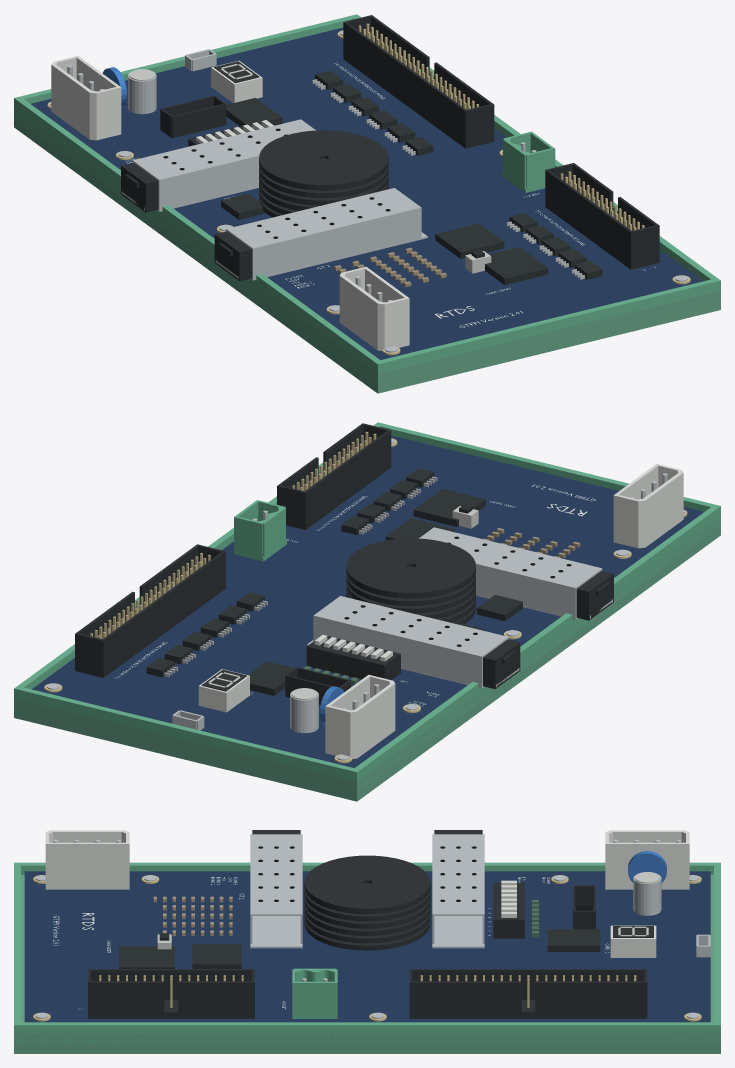
Rendered from asset.glb.
3 renders of one model, top to bottom at view 1: azimuth 30°, elevation 25°; view 2: azimuth 150°, elevation 25°; view 3: azimuth 270°, elevation 25°, orthographic. The views are drawn at different scales.
Parts seen in each view (by area): view 1: gtfpi-v2-2.01-capped.body, gtfpi-v2-2.01-capped.carrier, gtfpi-v2-2.01-capped.carrier_lip-0.054, gtfpi-v2-2.01-capped.heatsink_top, gtfpi-v2-2.01-capped.gt2.cage_side0.0072, gtfpi-v2-2.01-capped.hv.inner_wall, gtfpi-v2-2.01-capped.carrier_end-0.1, gtfpi-v2-2.01-capped.power1.shroud, gtfpi-v2-2.01-capped.power2.shroud, gtfpi-v2-2.01-capped.gt2.cage_edge0.00465, gtfpi-v2-2.01-capped.gt1.cage_edge0.00465, gtfpi-v2-2.01-capped.lv.inner_wall (+22 smaller); view 2: gtfpi-v2-2.01-capped.body, gtfpi-v2-2.01-capped.carrier, gtfpi-v2-2.01-capped.carrier_lip-0.054, gtfpi-v2-2.01-capped.heatsink_top, gtfpi-v2-2.01-capped.hv.inner_wall, gtfpi-v2-2.01-capped.carrier_end0.1, gtfpi-v2-2.01-capped.power2.shroud, gtfpi-v2-2.01-capped.power1.shroud, gtfpi-v2-2.01-capped.gt1.cage_side-0.0072, gtfpi-v2-2.01-capped.gt1.cage_edge0.00465, gtfpi-v2-2.01-capped.gt2.cage_edge0.00465, gtfpi-v2-2.01-capped.lv.inner_wall (+22 smaller); view 3: gtfpi-v2-2.01-capped.body, gtfpi-v2-2.01-capped.carrier_lip0.054, gtfpi-v2-2.01-capped.carrier, gtfpi-v2-2.01-capped.heatsink_top, gtfpi-v2-2.01-capped.power2.shroud, gtfpi-v2-2.01-capped.hv.outer_wall-1, gtfpi-v2-2.01-capped.hv.outer_wall1, gtfpi-v2-2.01-capped.gt2.cage_edge0.00465, gtfpi-v2-2.01-capped.gt1.cage_edge0.00465, gtfpi-v2-2.01-capped.power1.shroud, gtfpi-v2-2.01-capped.carrier_lip-0.054, gtfpi-v2-2.01-capped.hv.inner_wall (+26 smaller).
Part boxes in pixels (x1=…): gtfpi-v2-2.01-capped.body: x1=30, y1=27, x2=702, y2=359; gtfpi-v2-2.01-capped.carrier: x1=14, y1=109, x2=720, y2=393; gtfpi-v2-2.01-capped.carrier_lip-0.054: x1=14, y1=96, x2=383, y2=383; gtfpi-v2-2.01-capped.heatsink_top: x1=259, y1=130, x2=388, y2=190; gtfpi-v2-2.01-capped.gt2.cage_side0.0072: x1=252, y1=207, x2=421, y2=280; gtfpi-v2-2.01-capped.hv.inner_wall: x1=343, y1=21, x2=467, y2=148; gtfpi-v2-2.01-capped.carrier_end-0.1: x1=374, y1=278, x2=720, y2=382; gtfpi-v2-2.01-capped.power1.shroud: x1=51, y1=56, x2=121, y2=140; gtfpi-v2-2.01-capped.power2.shroud: x1=339, y1=266, x2=409, y2=350; gtfpi-v2-2.01-capped.gt2.cage_edge0.00465: x1=226, y1=188, x2=419, y2=249; gtfpi-v2-2.01-capped.gt1.cage_edge0.00465: x1=133, y1=120, x2=315, y2=180; gtfpi-v2-2.01-capped.lv.inner_wall: x1=545, y1=169, x2=632, y2=269; gtfpi-v2-2.01-capped.body: x1=32, y1=435, x2=704, y2=767; gtfpi-v2-2.01-capped.carrier: x1=14, y1=517, x2=720, y2=801; gtfpi-v2-2.01-capped.carrier_lip-0.054: x1=351, y1=504, x2=720, y2=791; gtfpi-v2-2.01-capped.heatsink_top: x1=346, y1=538, x2=475, y2=598; gtfpi-v2-2.01-capped.hv.inner_wall: x1=101, y1=551, x2=225, y2=677; gtfpi-v2-2.01-capped.carrier_end0.1: x1=14, y1=686, x2=360, y2=789; gtfpi-v2-2.01-capped.power2.shroud: x1=613, y1=464, x2=683, y2=548; gtfpi-v2-2.01-capped.power1.shroud: x1=325, y1=674, x2=395, y2=758; gtfpi-v2-2.01-capped.gt1.cage_side-0.0072: x1=313, y1=615, x2=482, y2=688; gtfpi-v2-2.01-capped.gt1.cage_edge0.00465: x1=315, y1=596, x2=508, y2=657; gtfpi-v2-2.01-capped.gt2.cage_edge0.00465: x1=419, y1=528, x2=601, y2=588; gtfpi-v2-2.01-capped.lv.inner_wall: x1=303, y1=429, x2=391, y2=529; gtfpi-v2-2.01-capped.body: x1=24, y1=871, x2=710, y2=1022; gtfpi-v2-2.01-capped.carrier_lip0.054: x1=14, y1=1022, x2=720, y2=1044; gtfpi-v2-2.01-capped.carrier: x1=14, y1=875, x2=720, y2=1053; gtfpi-v2-2.01-capped.heatsink_top: x1=304, y1=855, x2=430, y2=914; gtfpi-v2-2.01-capped.power2.shroud: x1=45, y1=830, x2=129, y2=889; gtfpi-v2-2.01-capped.hv.outer_wall-1: x1=535, y1=981, x2=647, y2=1018; gtfpi-v2-2.01-capped.hv.outer_wall1: x1=409, y1=981, x2=521, y2=1018; gtfpi-v2-2.01-capped.gt2.cage_edge0.00465: x1=251, y1=834, x2=301, y2=915; gtfpi-v2-2.01-capped.gt1.cage_edge0.00465: x1=433, y1=834, x2=483, y2=915; gtfpi-v2-2.01-capped.power1.shroud: x1=605, y1=830, x2=689, y2=889; gtfpi-v2-2.01-capped.carrier_lip-0.054: x1=14, y1=862, x2=719, y2=874; gtfpi-v2-2.01-capped.hv.inner_wall: x1=409, y1=969, x2=647, y2=999.
Size of the model in its own units: 0.1159 by 0.022 by 0.202.
